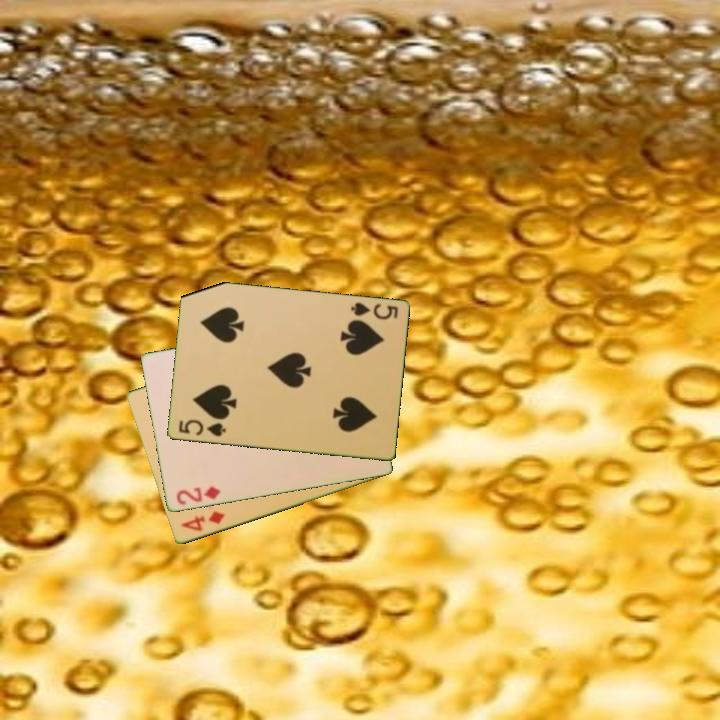2d: (172, 483, 223, 508)
4d: (177, 508, 228, 534)
5s: (347, 299, 401, 323), (175, 416, 228, 439)
